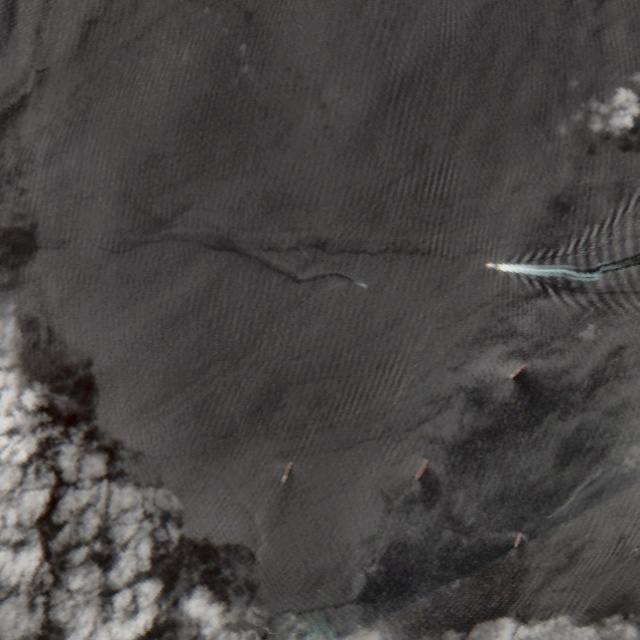wake: (477, 237, 605, 305)
